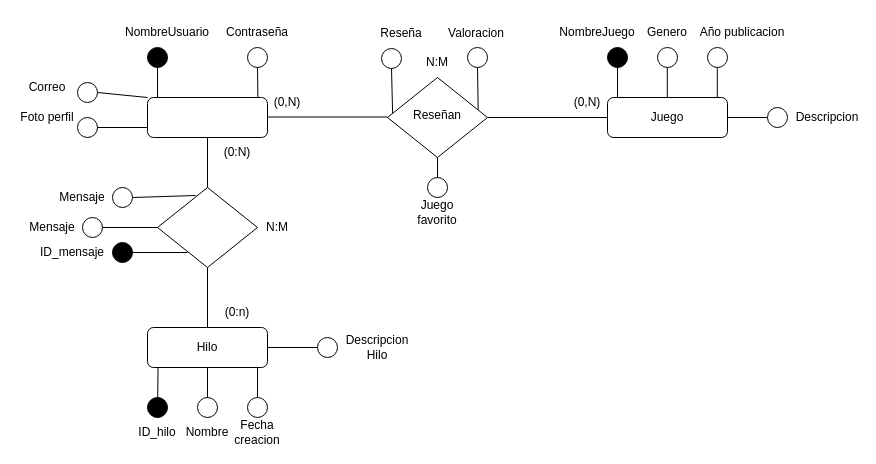
The diagram is 876 pixels wide and 464 high, and some of its shapes have lost their labels. Each missing label, with the centre of its shape:
Comentan: (207,227)
Usuarios: (207,117)
